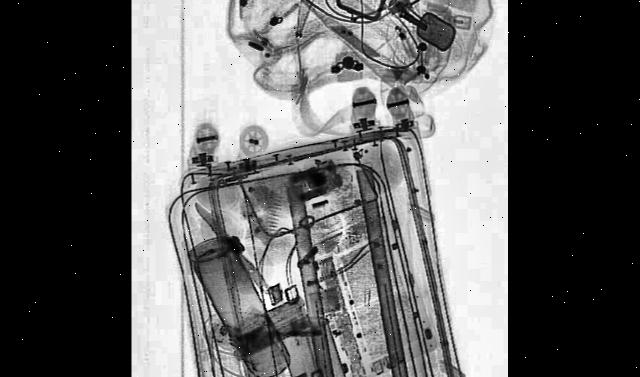Knife: (191, 196, 270, 298)
